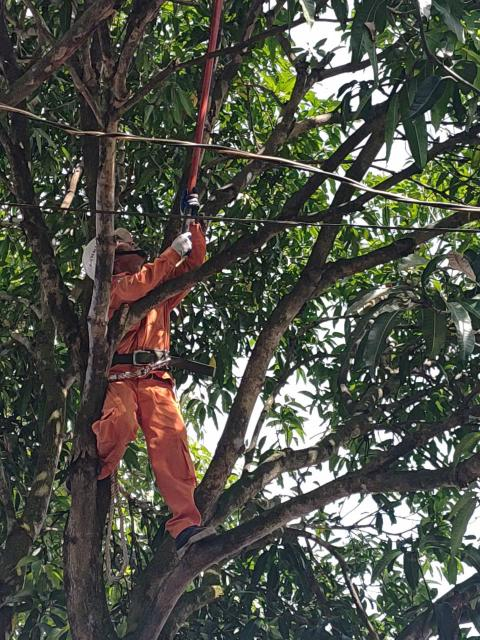gloves: (166, 231, 202, 258), (181, 191, 203, 222)
harness: (98, 339, 183, 382)
helmet: (76, 230, 133, 276)
shoes: (161, 513, 221, 558)
